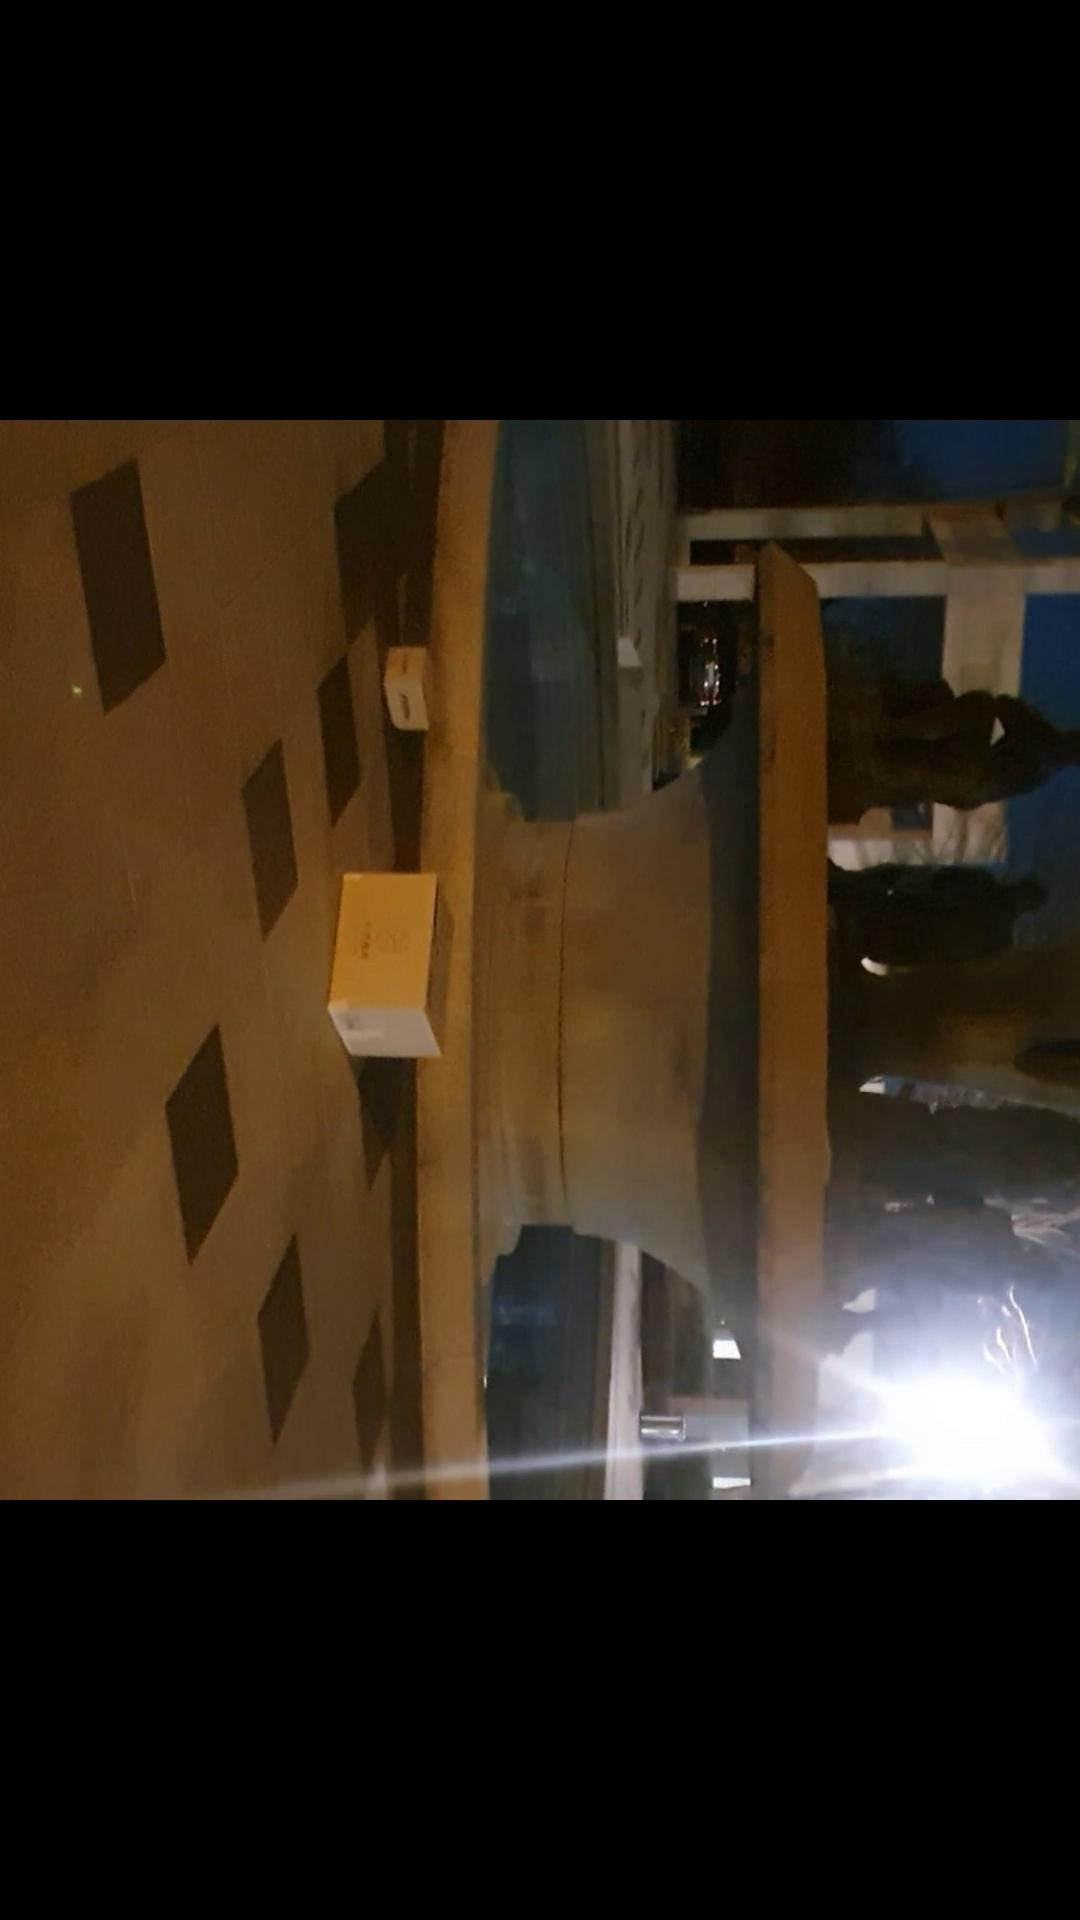Box: (310, 837, 465, 1098), (363, 636, 458, 742)
